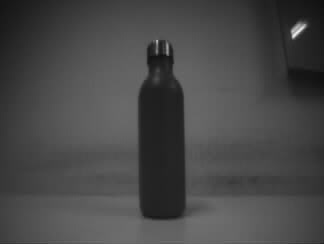Bottle: (137, 40, 186, 220)
